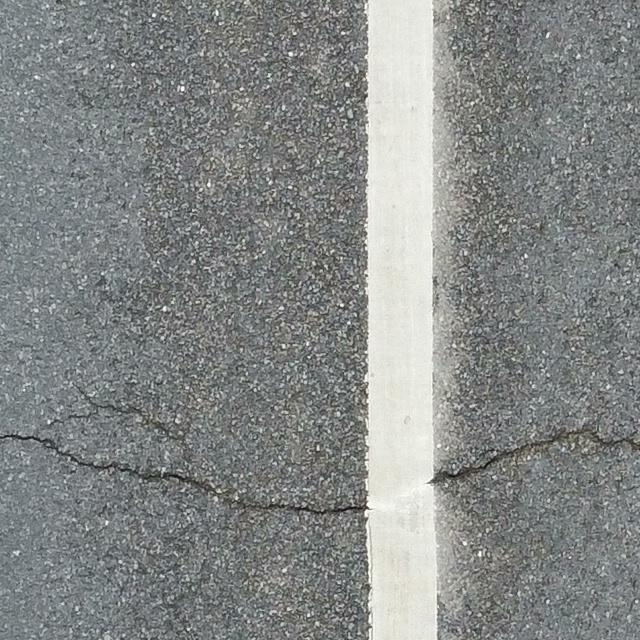TransverseCrack: (2, 433, 374, 514), (427, 427, 640, 487)
